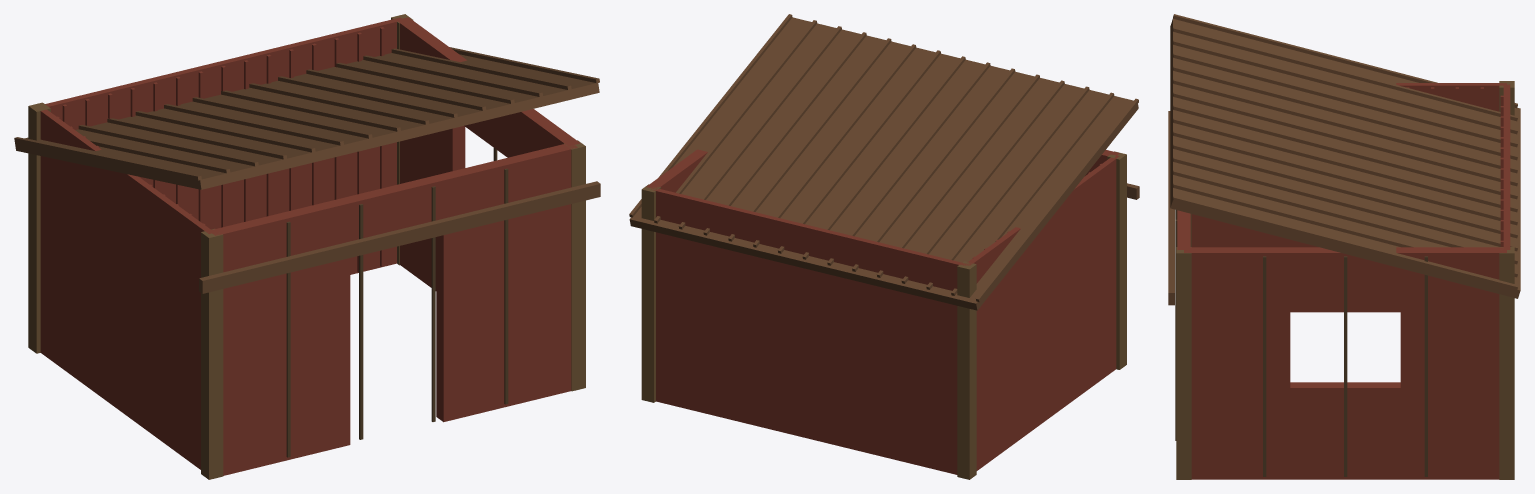
File: bldg_red_locker_hut.glb
3 views of the same model, side by side, from view 1: azimuth 30°, elevation 25°; view 2: azimuth 150°, elevation 25°; view 3: azimuth 270°, elevation 25° (orthographic). The views are drawn at different scales.
Visible parts, largest first — view 1: WallPanel_Finished (×2), WallPanel_Tin (×2), RoofDeck, RoofPanel_Sloped, CornerPost (×3); view 2: WallPanel_Tin (×2), RoofDeck, RoofPanel_Sloped, CornerPost (×3), WallPanel_Finished; view 3: WallPanel_Finished (×2), RoofDeck, RoofPanel_Sloped, CornerPost (×2), WallPanel_Tin (×2).
Part boxes in pixels (x1,y1,x2,y2): WallPanel_Finished (×2): [209, 17, 580, 475]; WallPanel_Tin (×2): [40, 17, 403, 469]; RoofDeck: [15, 53, 599, 189]; RoofPanel_Sloped: [14, 47, 600, 293]; CornerPost (×3): [28, 102, 585, 479]; WallPanel_Tin (×2): [651, 155, 1119, 474]; RoofDeck: [629, 17, 1138, 310]; RoofPanel_Sloped: [629, 14, 1139, 302]; CornerPost (×3): [641, 151, 1126, 479]; WallPanel_Finished: [646, 149, 707, 192]; WallPanel_Finished (×2): [1175, 210, 1506, 479]; RoofDeck: [1170, 19, 1520, 298]; RoofPanel_Sloped: [1168, 14, 1517, 305]; CornerPost (×2): [1176, 247, 1514, 479]; WallPanel_Tin (×2): [1191, 83, 1510, 312].
Size of the model in its own units: 4.52 by 3.3 by 3.66.
